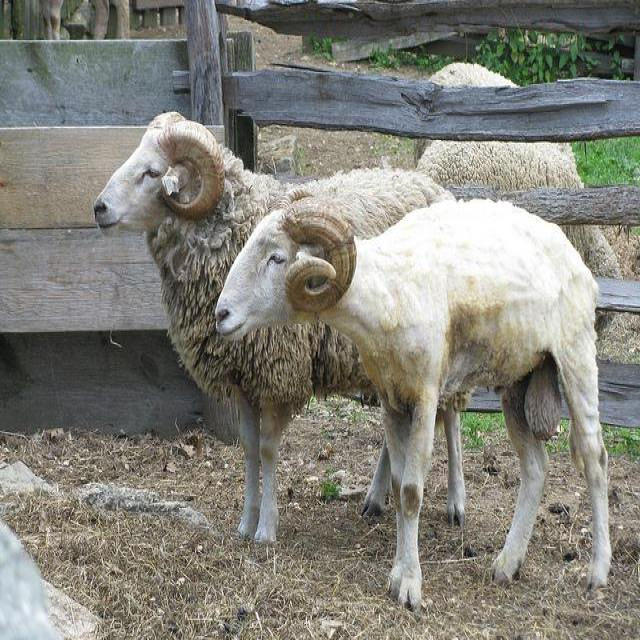Sheep: (92, 110, 470, 542), (214, 190, 614, 594), (413, 61, 620, 282)
